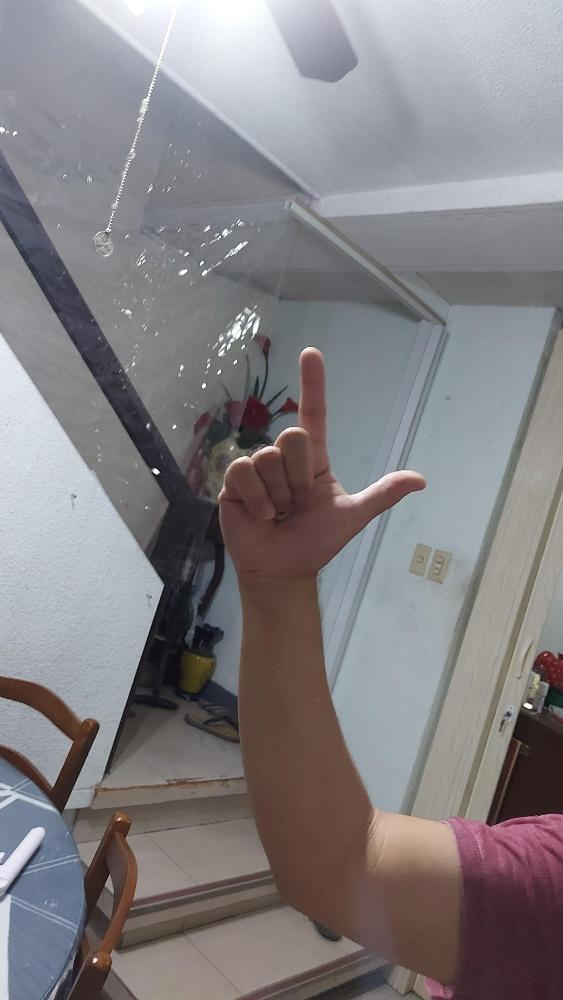l: (216, 344, 426, 580)
